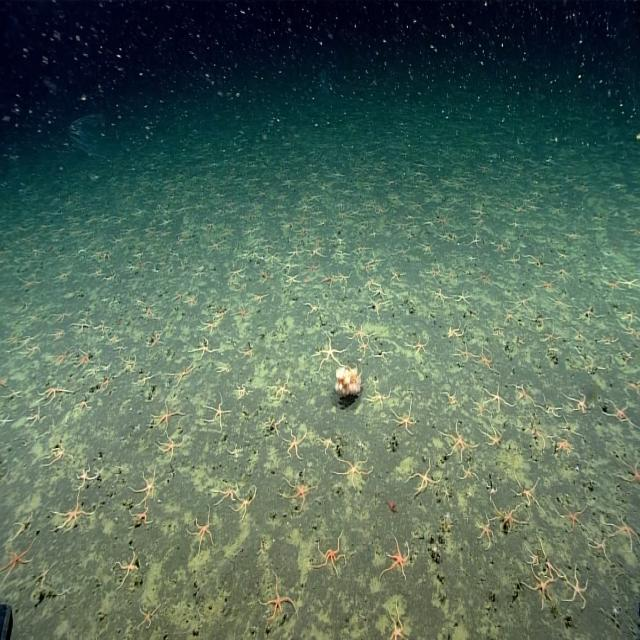brittle-stars: (263, 575, 296, 622), (54, 496, 93, 533), (3, 540, 37, 578), (315, 536, 345, 574), (284, 472, 314, 508), (611, 513, 640, 550), (443, 426, 474, 460), (190, 512, 216, 552), (384, 536, 409, 576), (336, 458, 369, 488), (409, 462, 438, 496), (512, 475, 540, 509), (525, 569, 553, 603), (523, 411, 546, 451), (604, 398, 634, 428), (556, 501, 585, 532), (383, 608, 411, 640), (566, 569, 588, 609), (118, 550, 143, 585), (152, 402, 180, 432), (495, 504, 525, 532), (317, 337, 343, 369), (134, 470, 160, 501), (392, 404, 416, 435), (233, 488, 256, 520), (565, 388, 590, 417), (283, 429, 306, 460), (169, 362, 196, 388), (485, 384, 509, 412), (206, 396, 228, 426), (137, 603, 160, 631), (579, 354, 607, 376), (39, 382, 68, 403), (539, 394, 563, 419), (159, 436, 182, 462), (270, 377, 293, 402), (130, 502, 153, 527), (48, 442, 70, 468), (74, 463, 96, 489), (514, 382, 536, 408), (590, 532, 610, 560), (478, 515, 496, 546), (580, 302, 606, 323), (213, 481, 236, 504), (369, 384, 391, 408), (623, 457, 640, 487), (133, 368, 156, 390), (193, 340, 217, 361), (483, 426, 504, 448), (410, 334, 430, 356), (49, 348, 71, 368), (555, 435, 574, 458), (455, 342, 474, 364), (315, 434, 337, 453), (438, 387, 460, 406), (478, 347, 495, 371), (511, 292, 531, 311), (620, 308, 640, 327), (74, 348, 92, 369), (551, 296, 572, 314), (52, 307, 73, 325), (459, 462, 477, 482), (22, 342, 42, 360), (351, 320, 368, 340), (97, 375, 114, 395), (536, 276, 555, 293), (446, 322, 465, 339), (147, 331, 163, 351), (477, 270, 494, 288), (75, 397, 91, 416), (236, 380, 251, 400), (121, 353, 136, 373), (200, 318, 218, 334), (432, 288, 448, 306), (388, 266, 404, 284), (622, 276, 640, 292), (0, 412, 14, 432), (425, 264, 441, 281), (544, 329, 560, 346), (284, 272, 300, 288), (444, 267, 460, 283), (455, 288, 470, 305), (335, 248, 350, 264), (236, 305, 250, 321), (338, 271, 352, 287), (357, 340, 371, 356), (468, 233, 481, 250), (267, 250, 281, 265), (281, 260, 295, 275), (288, 246, 302, 260), (100, 358, 114, 372), (184, 292, 197, 307), (210, 239, 222, 255), (308, 260, 320, 276), (108, 333, 120, 347)
